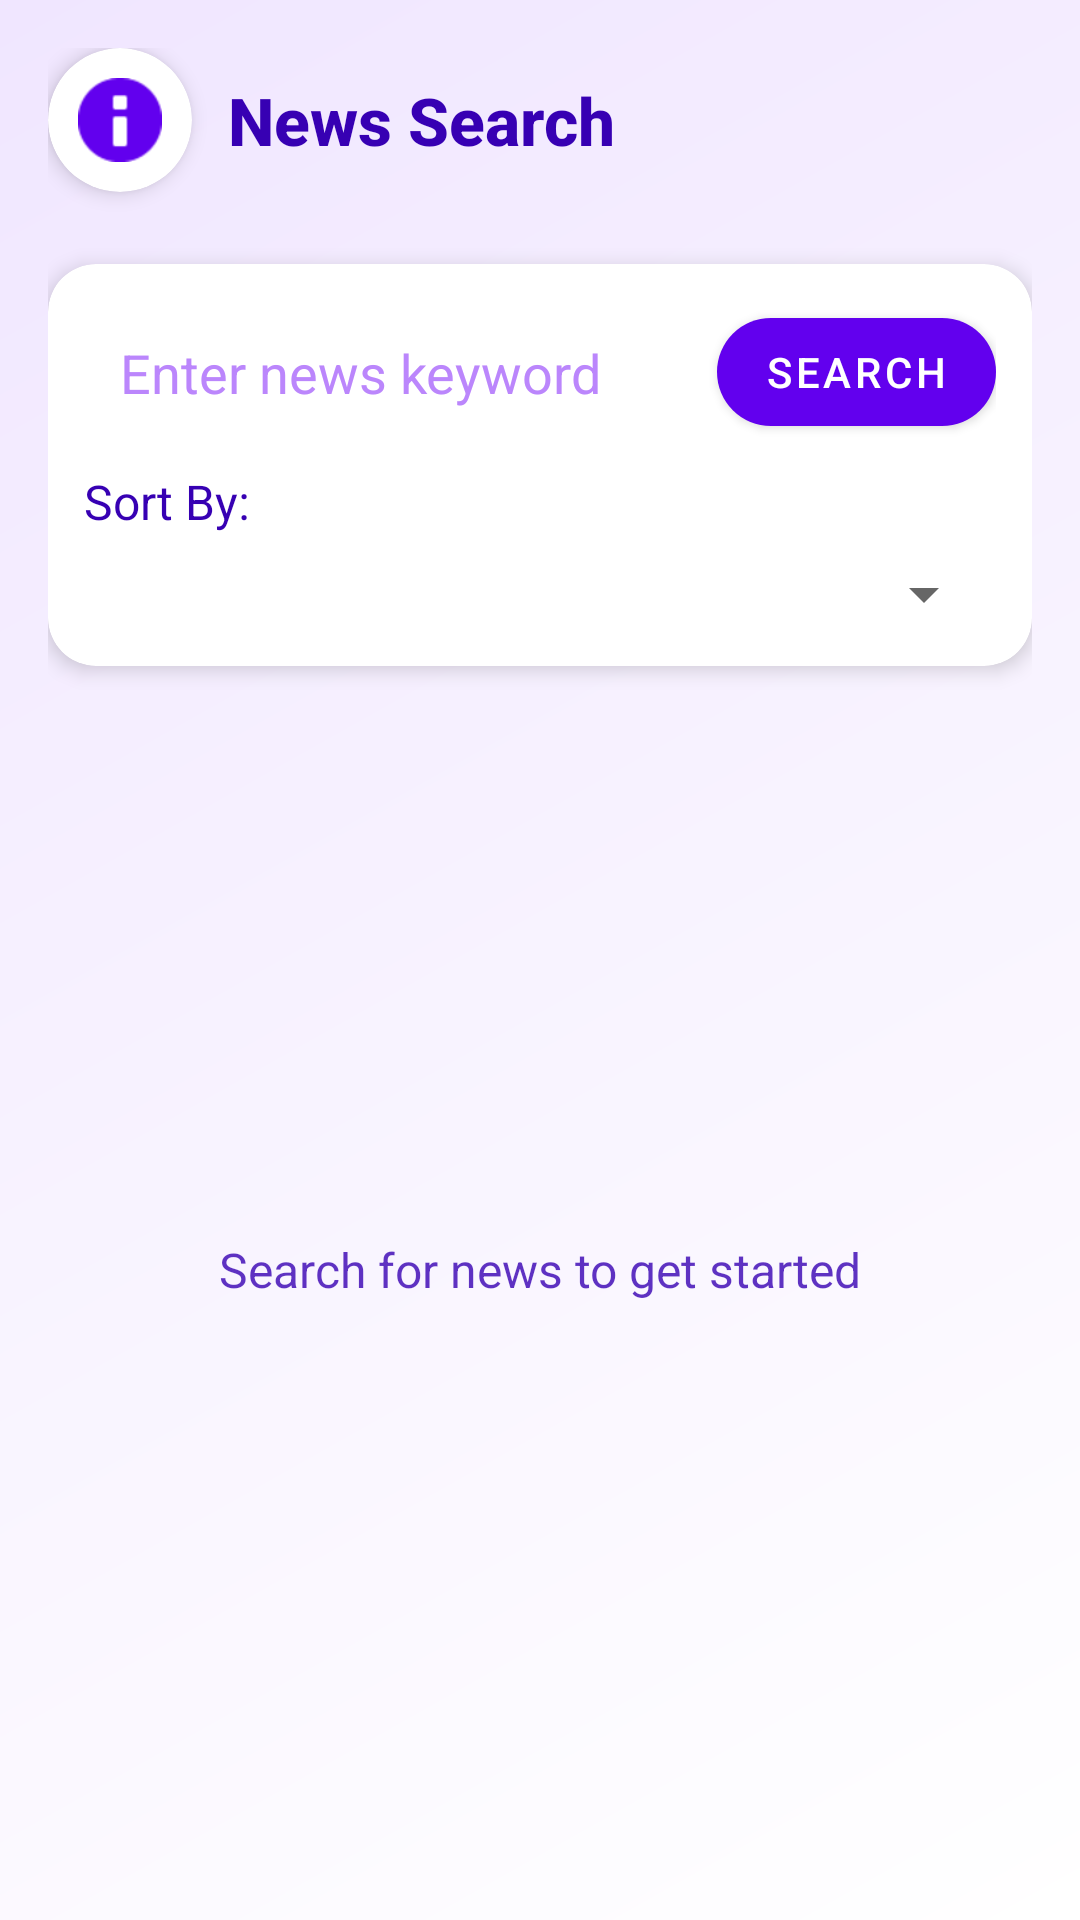

Locate icon controls on the screen. Image size 1080×1920, boxes as region(x1, y1, x2, y2).
info: region(48, 48, 192, 192)
